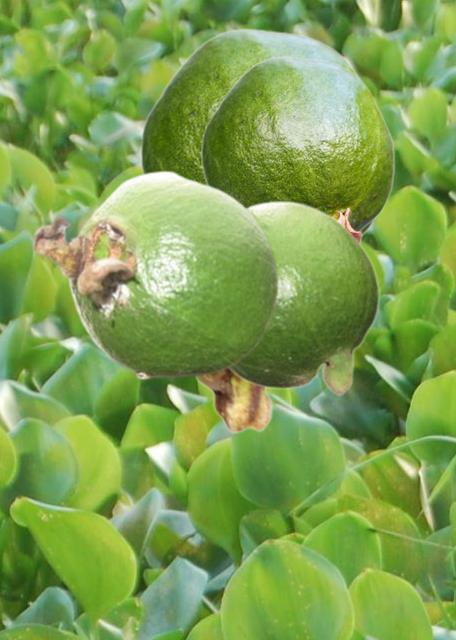guava: (31, 169, 279, 379), (139, 28, 380, 238), (200, 56, 394, 242), (229, 199, 379, 396), (195, 371, 273, 433)
